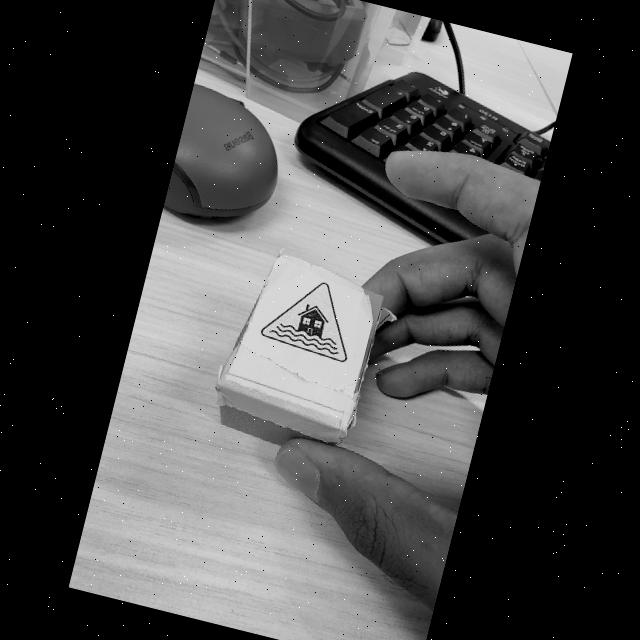Tsunami: (261, 282, 347, 362)
